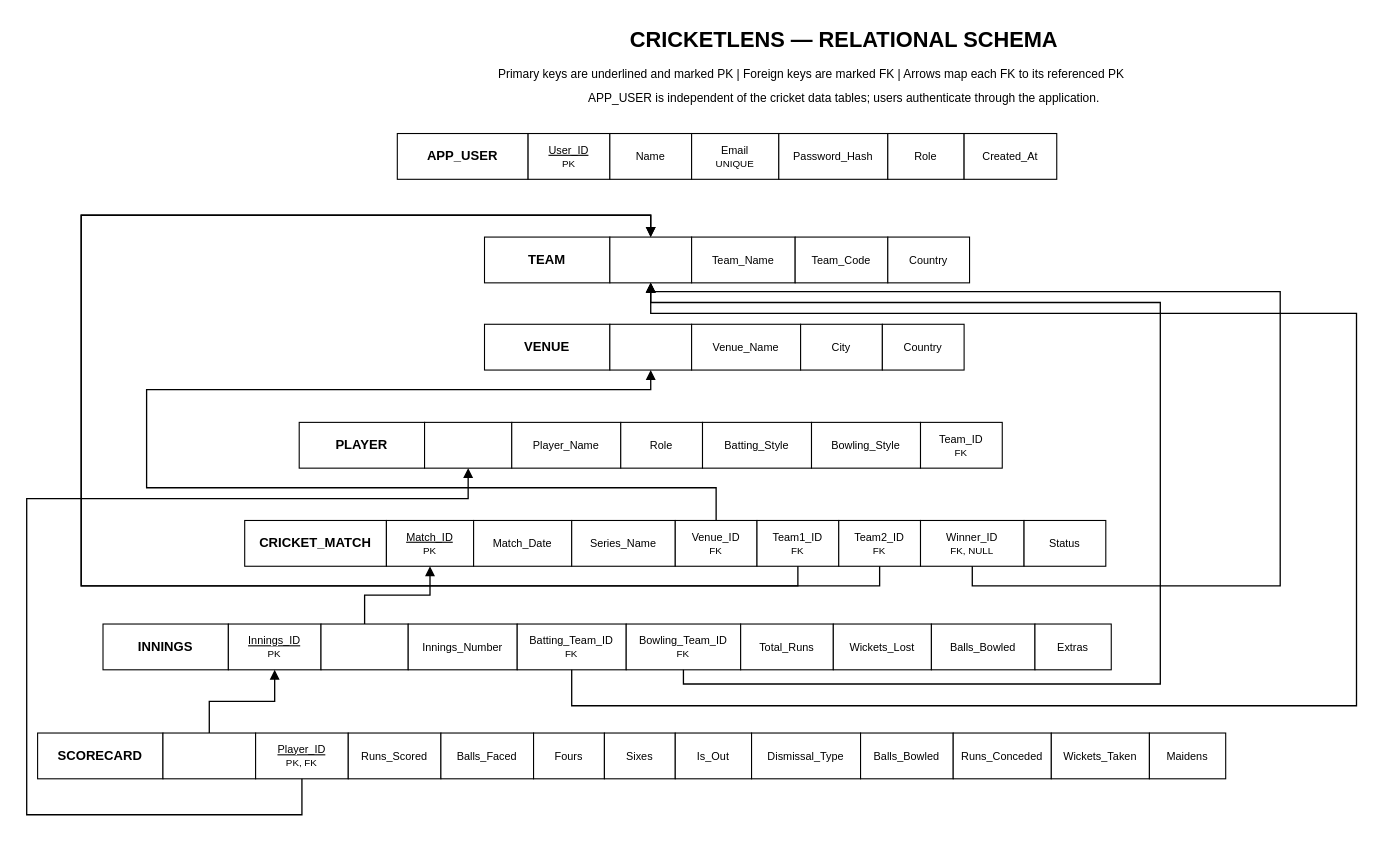
Image size: 1386x843. Some labels were removed from this diagram. The shapes that lost their labels are listed below. From the top down, each one's centre as x and y in pixels, then its label:
the point at 650,259: Team_ID PK
the point at 650,346: Venue_ID PK
the point at 467,444: Player_ID PK
the point at 364,646: Match_ID FK
the point at 209,755: Innings_ID PK, FK
